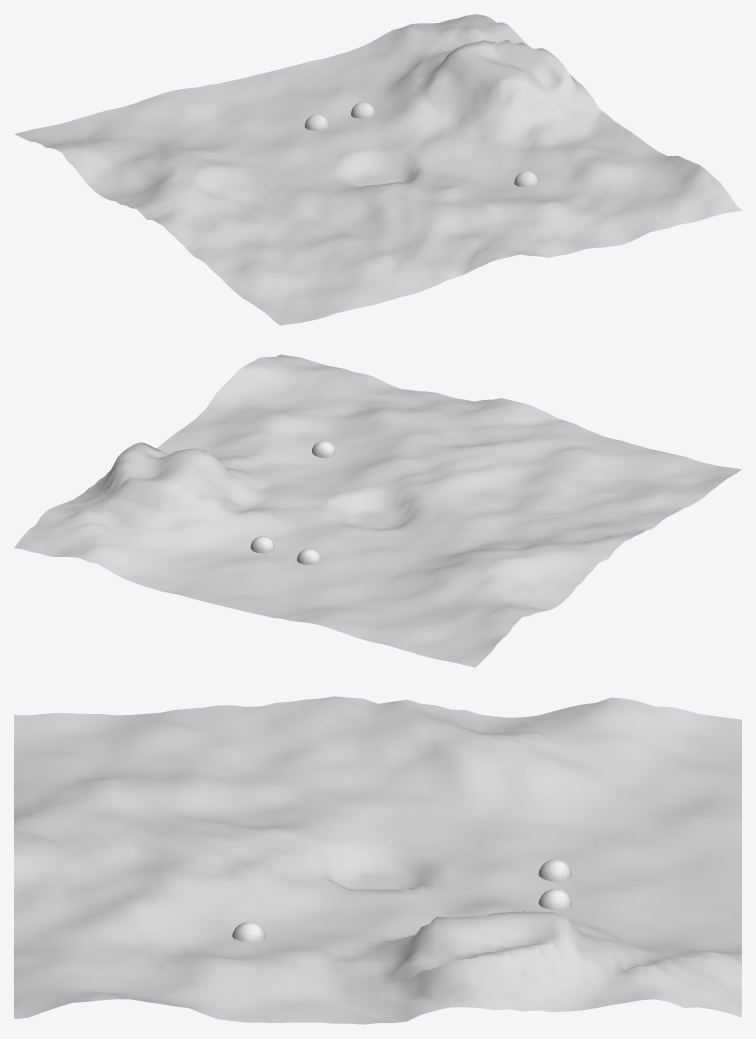
File: iceberg.FBX
The picture shows the model from 3 angles, top to bottom: view 1: azimuth 30°, elevation 25°; view 2: azimuth 150°, elevation 25°; view 3: azimuth 270°, elevation 25°; orthographic projection. The views are drawn at different scales.
Parts seen in each view (by area): view 1: Plane01; view 2: Plane01; view 3: Plane01, GeoSphere02, GeoSphere01, GeoSphere03.
Part boxes in pixels (<box>): Plane01: <box>14,14,741,325</box>; Plane01: <box>14,354,741,667</box>; Plane01: <box>14,696,741,1024</box>; GeoSphere02: <box>538,859,571,881</box>; GeoSphere01: <box>538,888,572,910</box>; GeoSphere03: <box>232,922,265,941</box>.
Bounding box in the file's own units: 1500 × 150 × 1500.
1 material, 1 textured.
